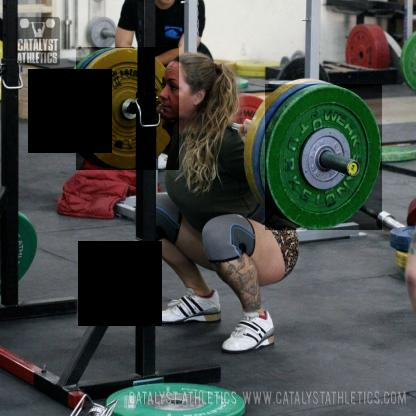barbell: (266, 86, 383, 232), (77, 48, 180, 171)
